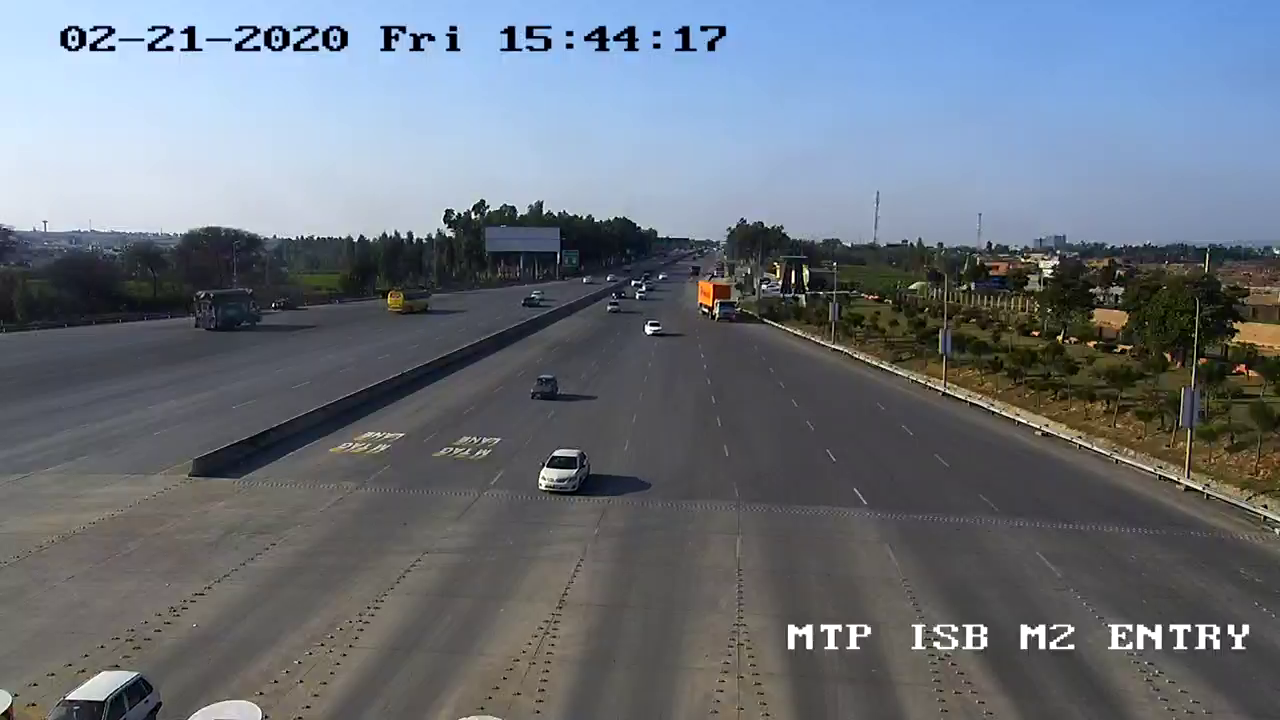f1: (532, 441, 597, 501), (526, 371, 562, 406)
